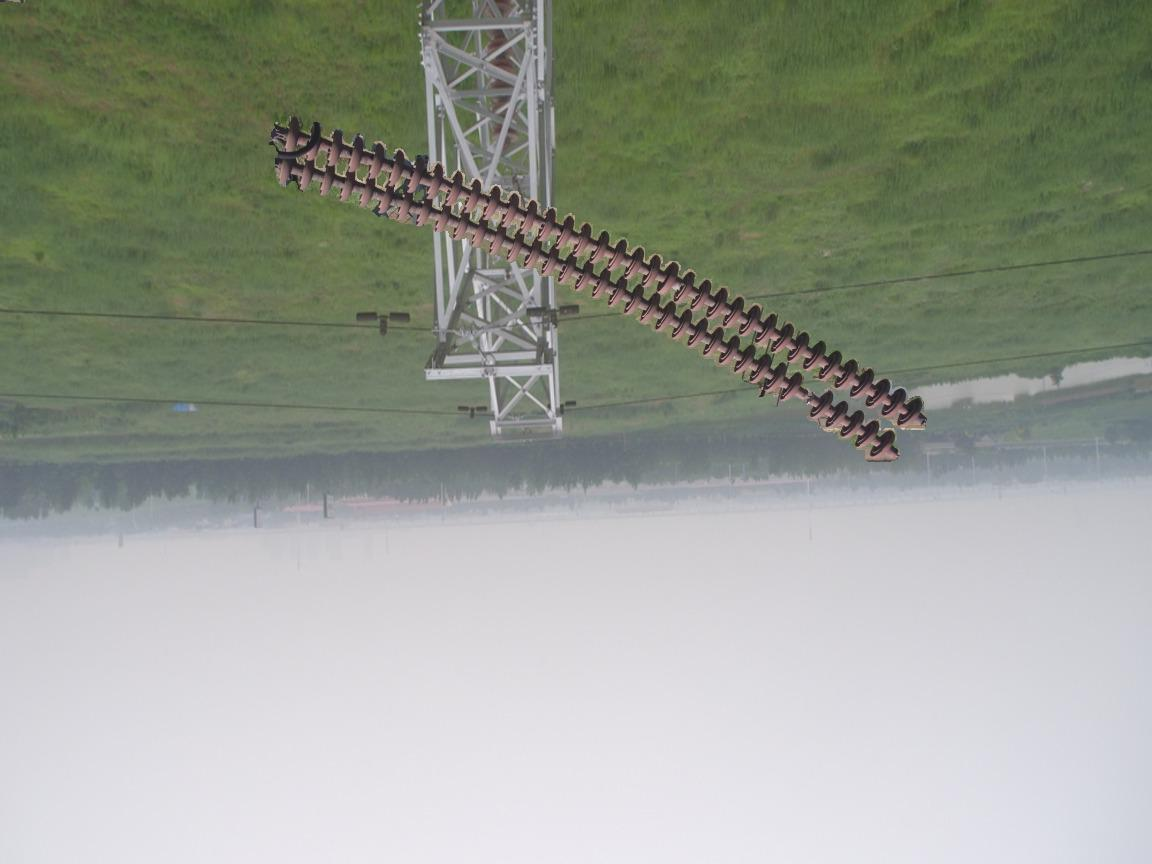insulator: (263, 109, 933, 466), (485, 1, 518, 141)
insulator_stringdrop: (775, 369, 837, 424)
